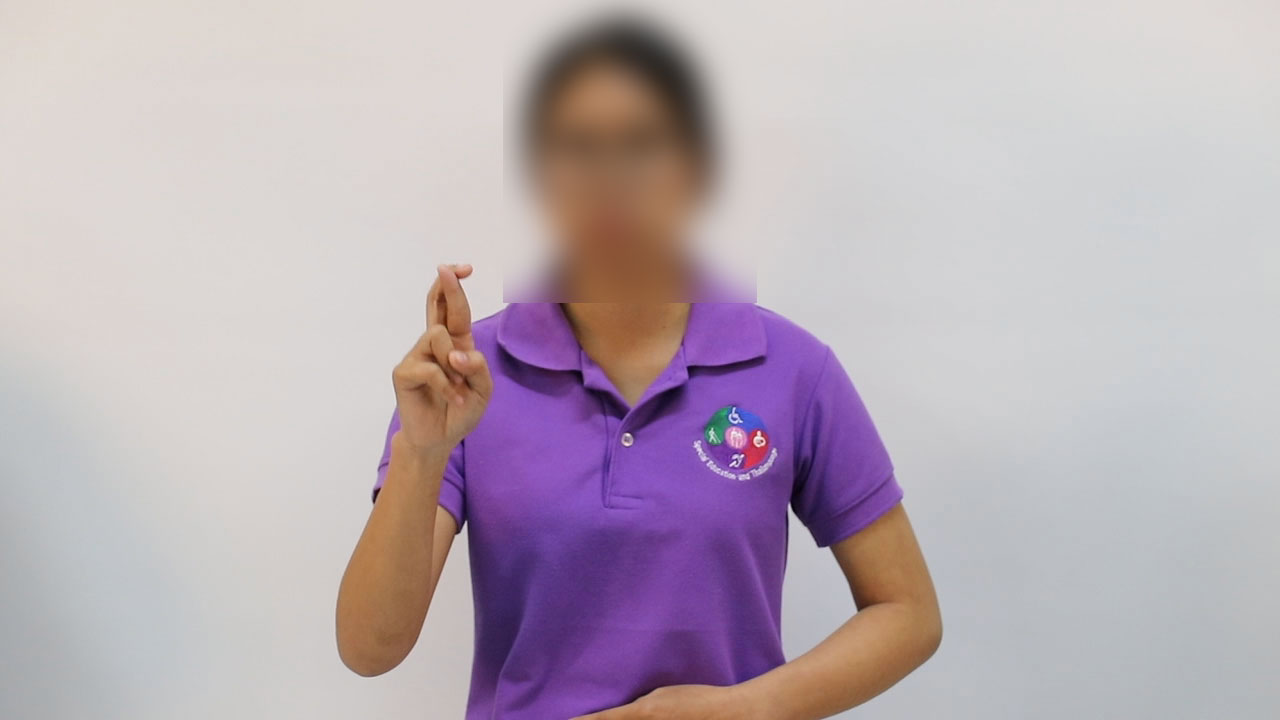rao: (367, 259, 497, 466)
